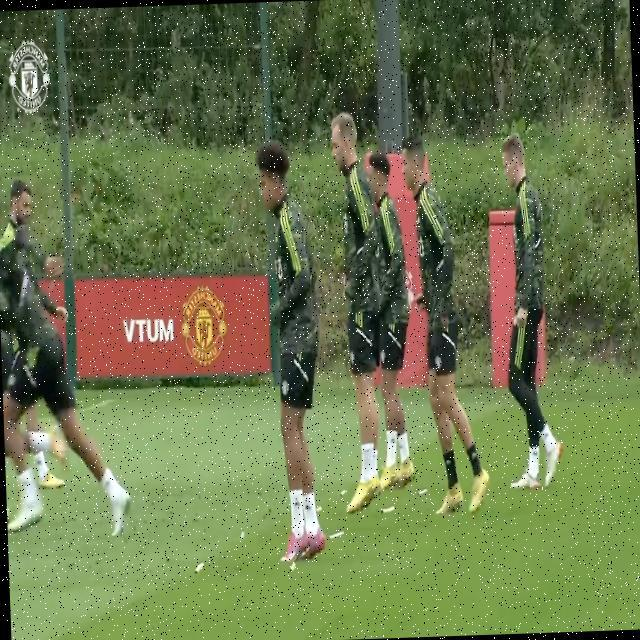Adidas: (303, 499, 312, 513), (294, 495, 302, 508)
